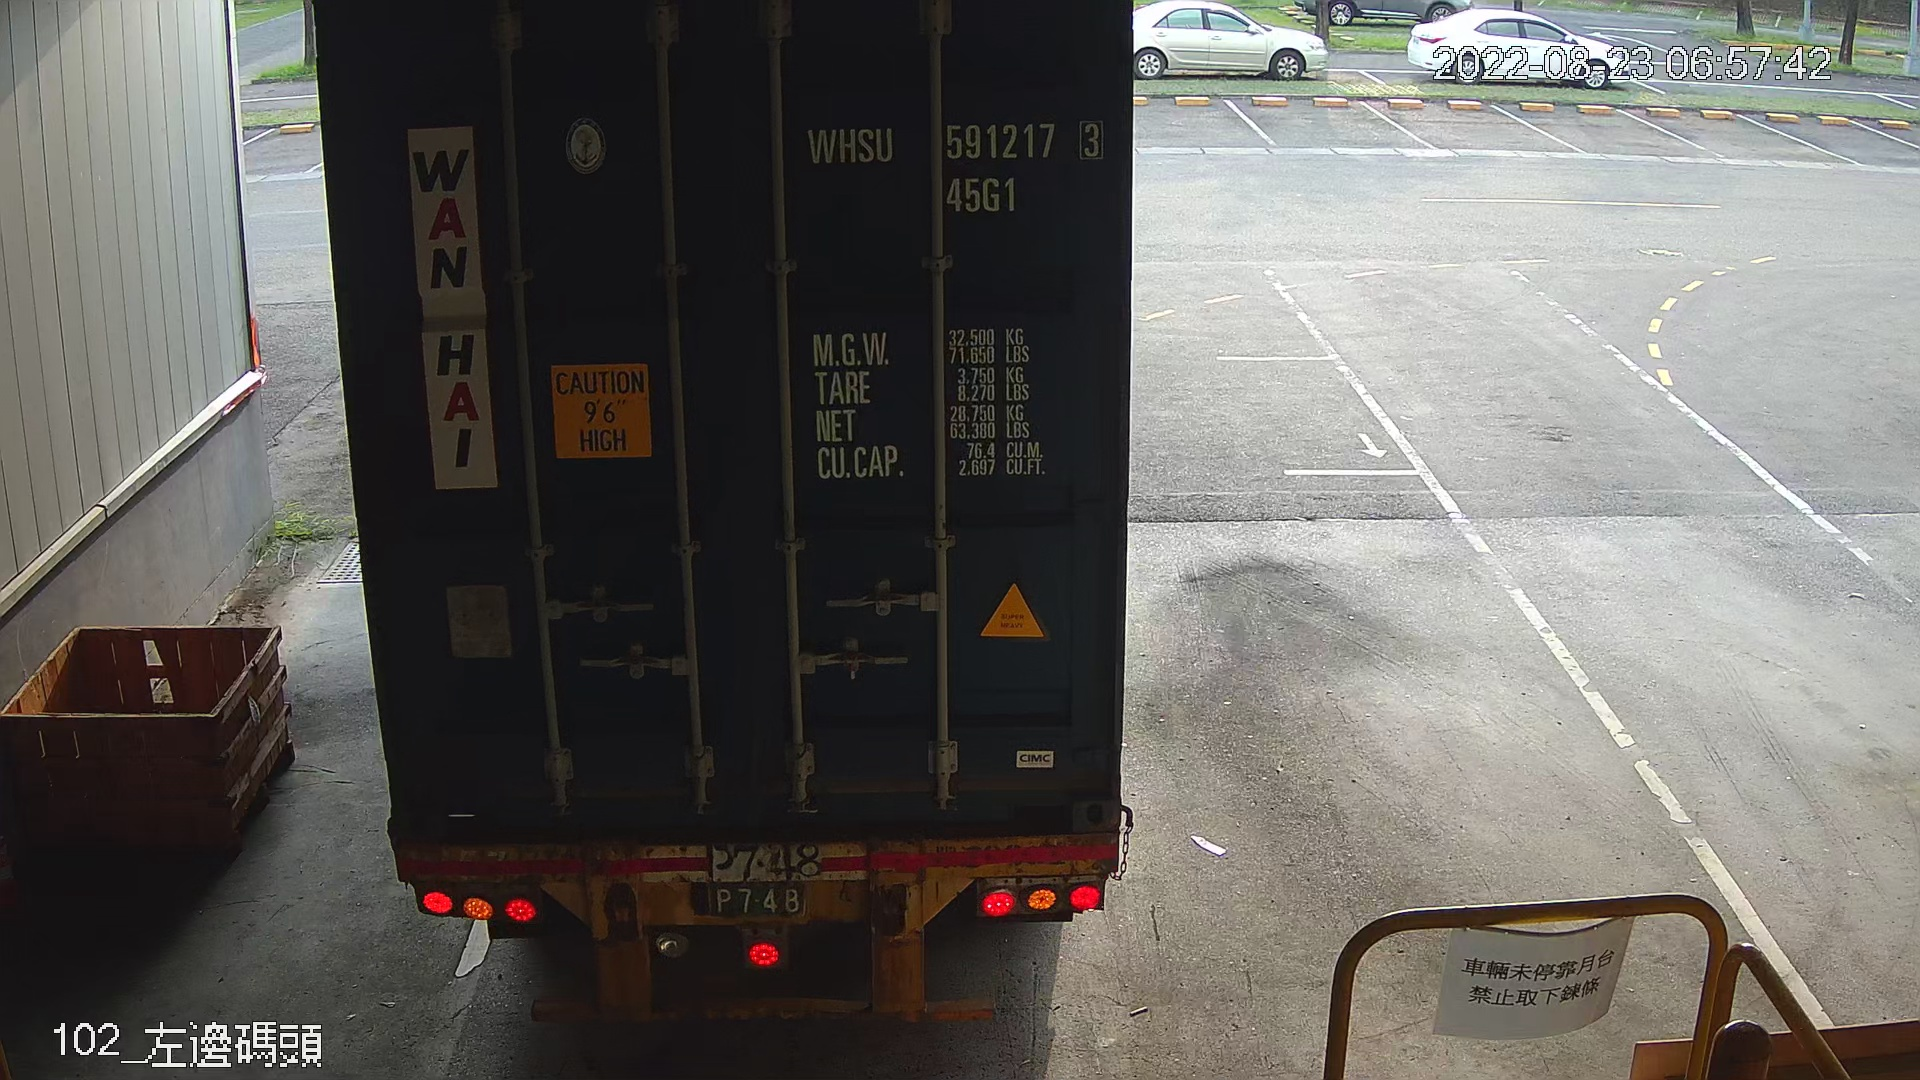container: (796, 111, 1117, 223)
